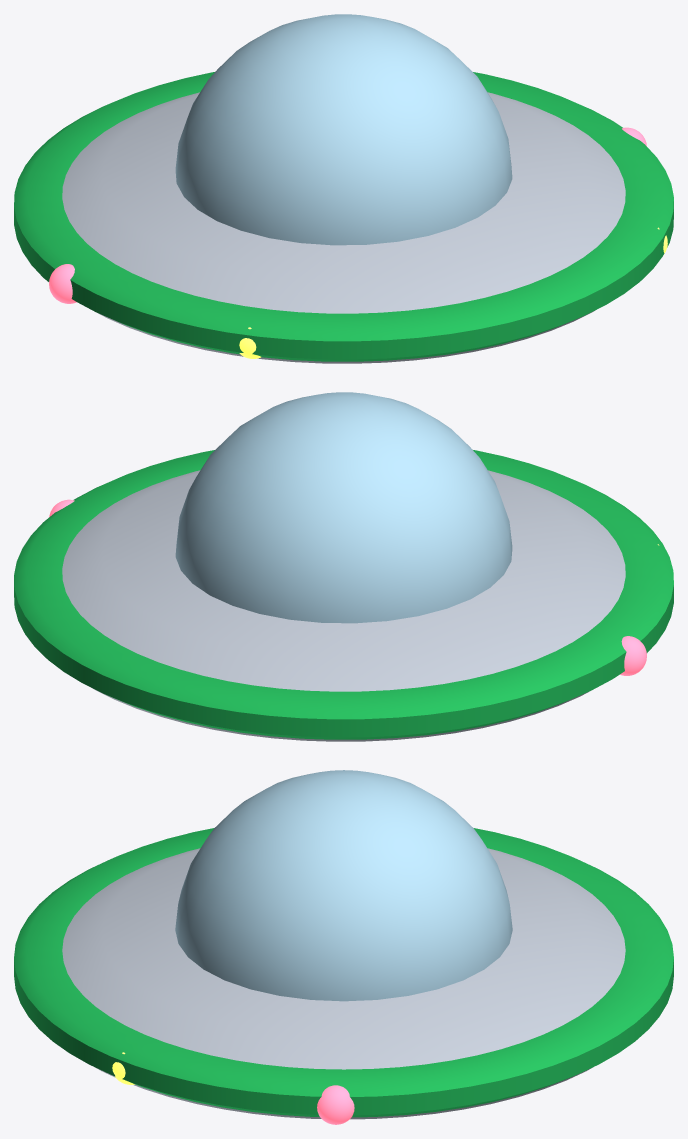
Rendered from mimozemstan_ufo.glb.
3 renders of one model, top to bottom at view 1: azimuth 30°, elevation 25°; view 2: azimuth 150°, elevation 25°; view 3: azimuth 270°, elevation 25°, orthographic.
Parts seen in each view (by area): view 1: ufo_kopule, ufo_talir, ufo_pas, ufo_svetlo_4; view 2: ufo_kopule, ufo_talir, ufo_pas, ufo_svetlo_4; view 3: ufo_kopule, ufo_talir, ufo_pas, ufo_svetlo_0.
Part boxes in pixels (x1,y1,x2,y2): ufo_kopule: [175, 14, 512, 245]; ufo_talir: [62, 92, 625, 363]; ufo_pas: [14, 72, 673, 361]; ufo_svetlo_4: [49, 264, 76, 303]; ufo_kopule: [175, 392, 512, 623]; ufo_talir: [62, 470, 625, 741]; ufo_pas: [14, 450, 673, 739]; ufo_svetlo_4: [620, 636, 646, 675]; ufo_kopule: [175, 770, 512, 1001]; ufo_talir: [62, 848, 625, 1119]; ufo_pas: [14, 828, 673, 1117]; ufo_svetlo_0: [317, 1085, 354, 1124].
Bounding box in the file's own units: 1.7 × 0.8 × 1.64.
